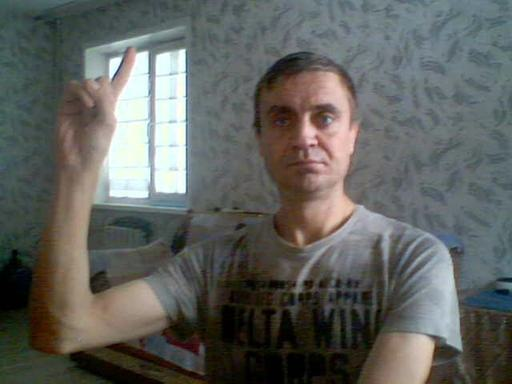one: (52, 43, 139, 175)
